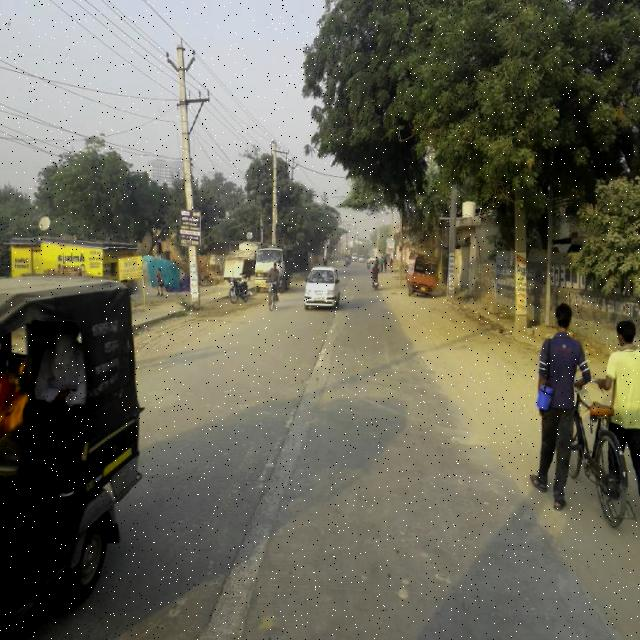D44: (228, 316, 353, 617)
